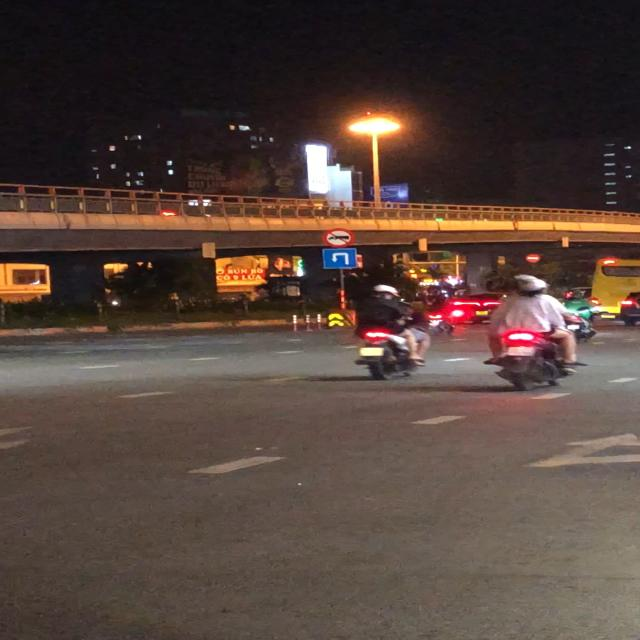Bien bao cam xe so-mi ro-mooc: (322, 228, 354, 249)
